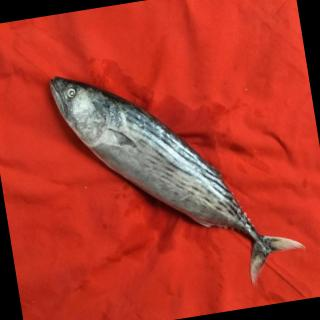Ikan: (42, 48, 299, 317)
